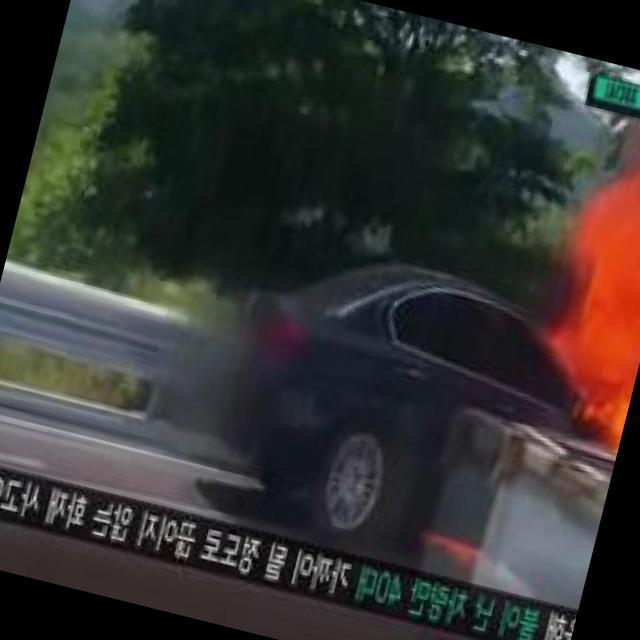Fire: (519, 102, 640, 458)
